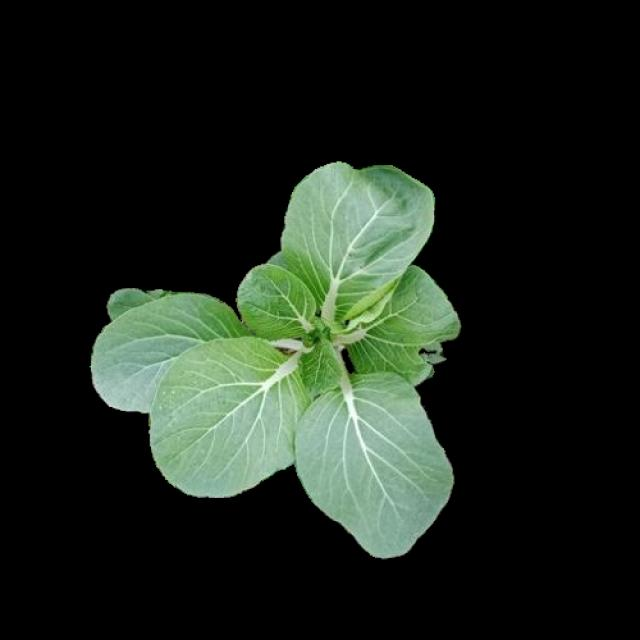healthy: (90, 160, 460, 554)
not-mature: (92, 163, 462, 556)
